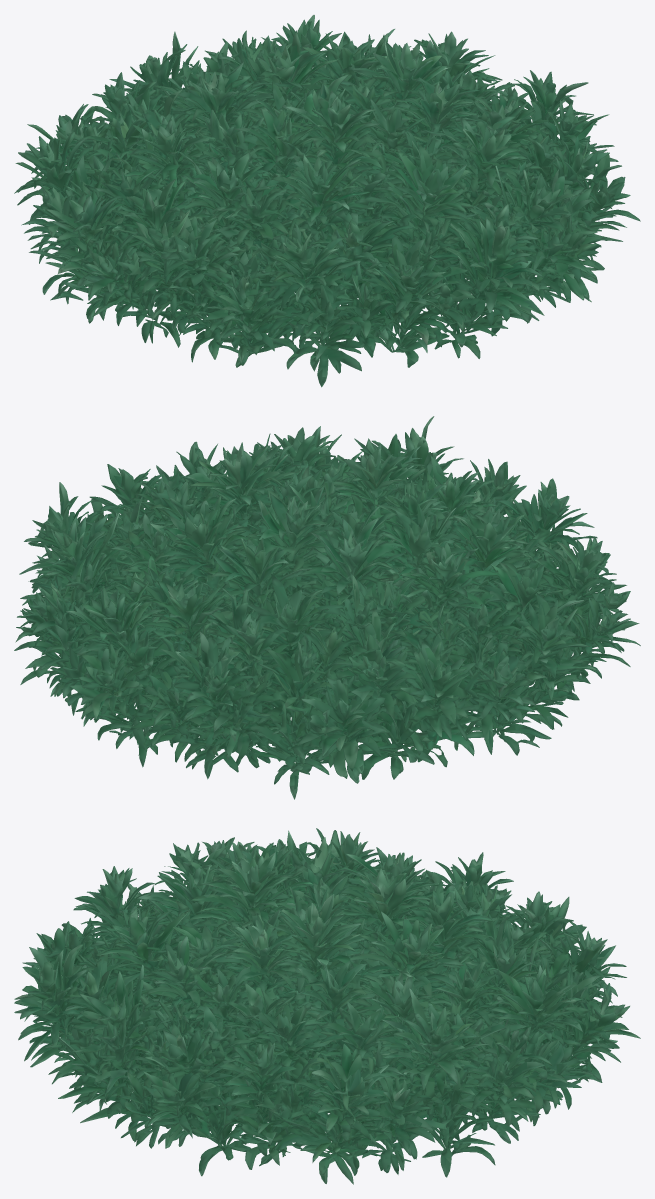
File: Meshy_AI_bush_shrub_c_0823021348_image-to-3d-texture.glb
The picture shows the model from 3 angles, top to bottom: view 1: azimuth 30°, elevation 25°; view 2: azimuth 150°, elevation 25°; view 3: azimuth 270°, elevation 25°; orthographic projection. The views are drawn at different scales.
Size of the model in its own units: 1.89 by 0.7252 by 1.88.
1 material, 1 textured.
